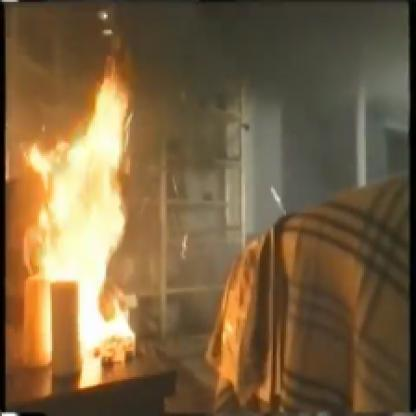fire: (20, 48, 166, 366)
